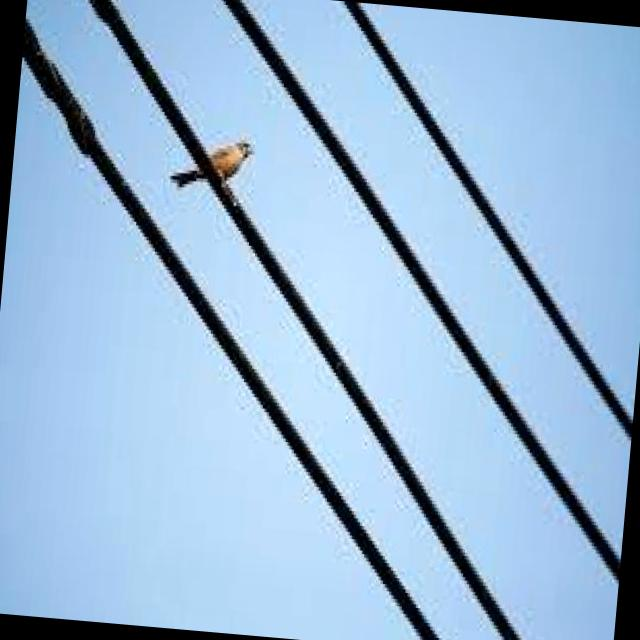bird: (175, 130, 257, 192)
